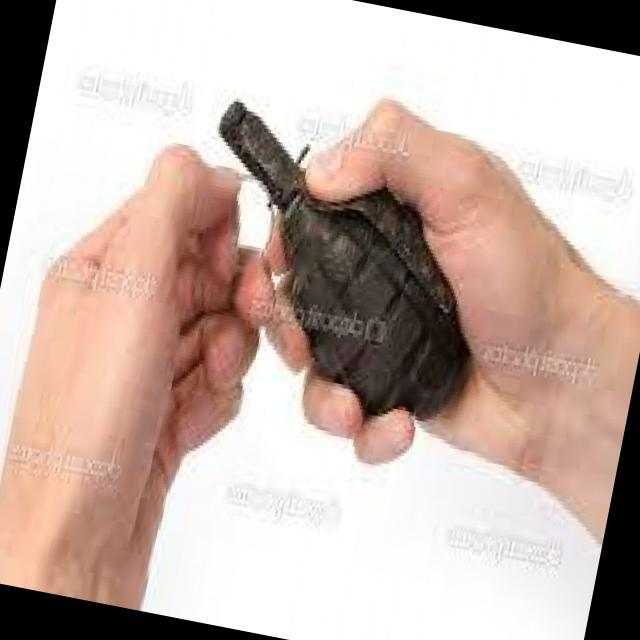grenade: (163, 88, 514, 418)
